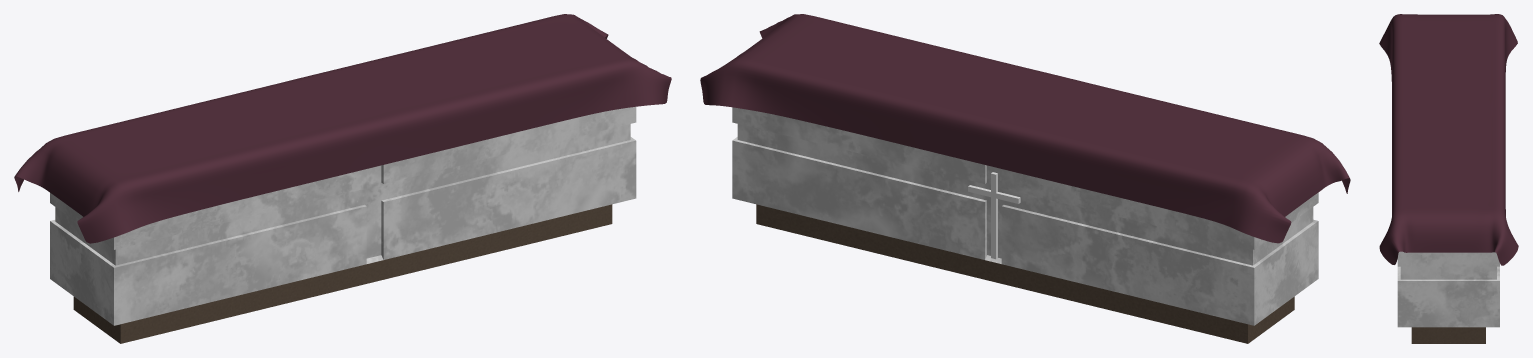
Rendered from Mesa.fbx.
3 views of the same model, side by side, from view 1: azimuth 30°, elevation 25°; view 2: azimuth 150°, elevation 25°; view 3: azimuth 270°, elevation 25° (orthographic). The views are drawn at different scales.
Parts seen in each view (by area): view 1: Mesa, Tela; view 2: Mesa, Tela, Cruz 2; view 3: Tela, Mesa.
Boxes of the visible parts, bbox=[...] form: Mesa: bbox=[50, 106, 636, 343]; Tela: bbox=[14, 14, 671, 243]; Mesa: bbox=[732, 107, 1318, 343]; Tela: bbox=[700, 14, 1350, 243]; Cruz 2: bbox=[968, 172, 1020, 259]; Tela: bbox=[1379, 14, 1518, 265]; Mesa: bbox=[1397, 251, 1499, 343].
Size of the model in its own units: 353 by 95.56 by 89.99.
